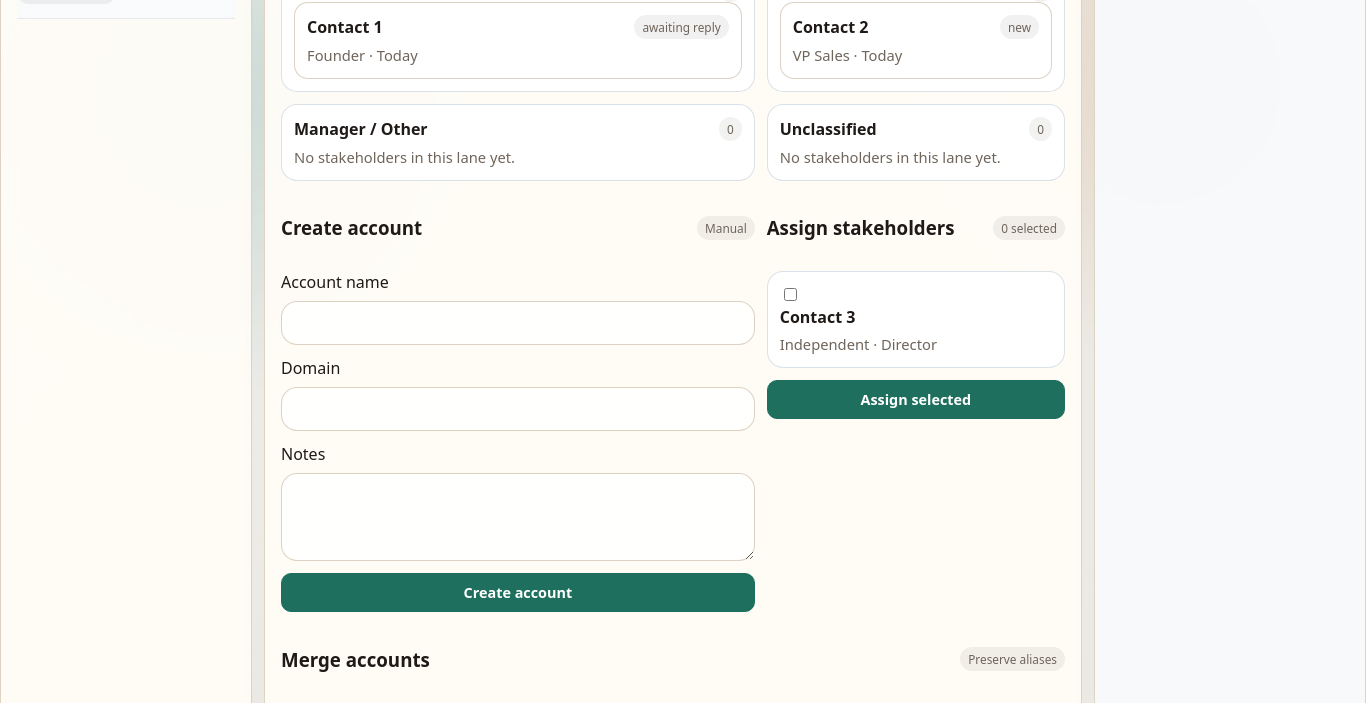
Test case: InboxWorkspace bulk draft flow › creates, assigns, and merges accounts from account mode controls
(page scrolled)
Step 1. Type "Gamma Corp" into the field labelled "Account name" → (518, 323), box [281,301,755,345]
Step 2. Type "gamma.test" into the field labelled "Domain" → (518, 409), box [281,387,755,431]
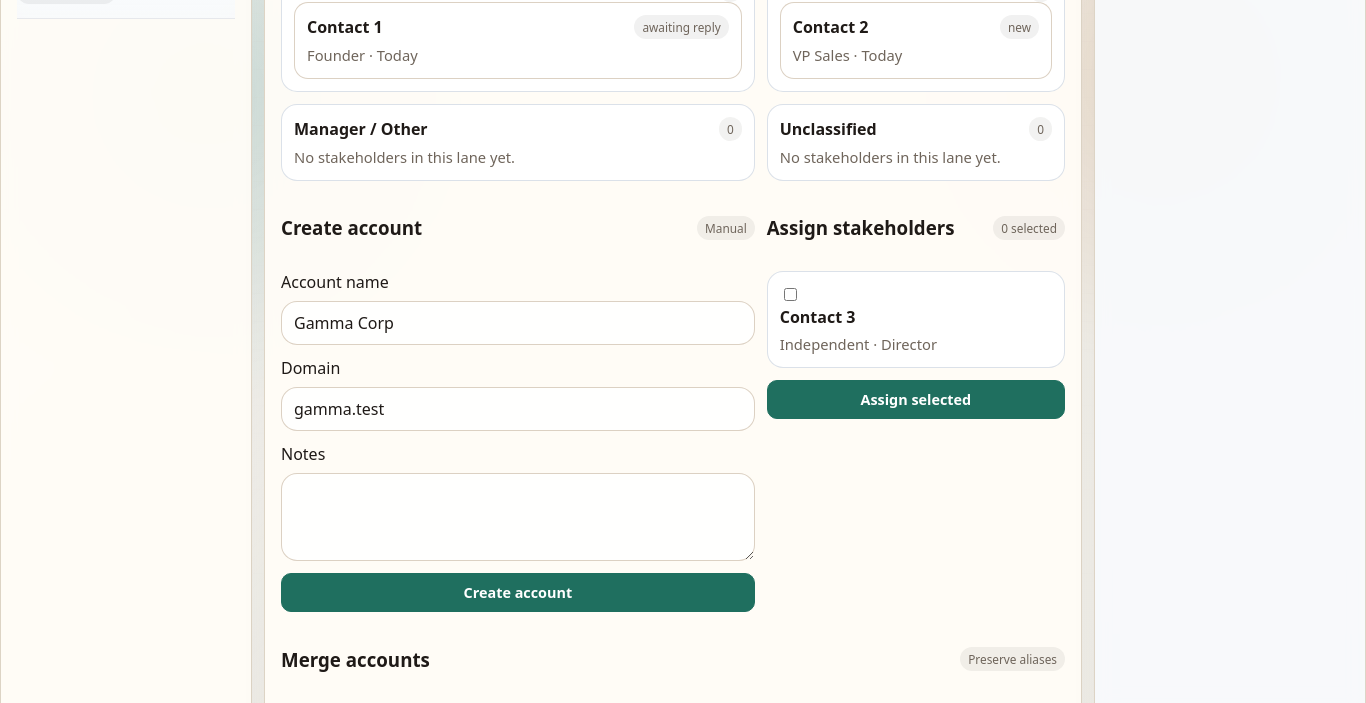
Step 3. Click the button "Create account" → (518, 592), box [281,573,755,612]
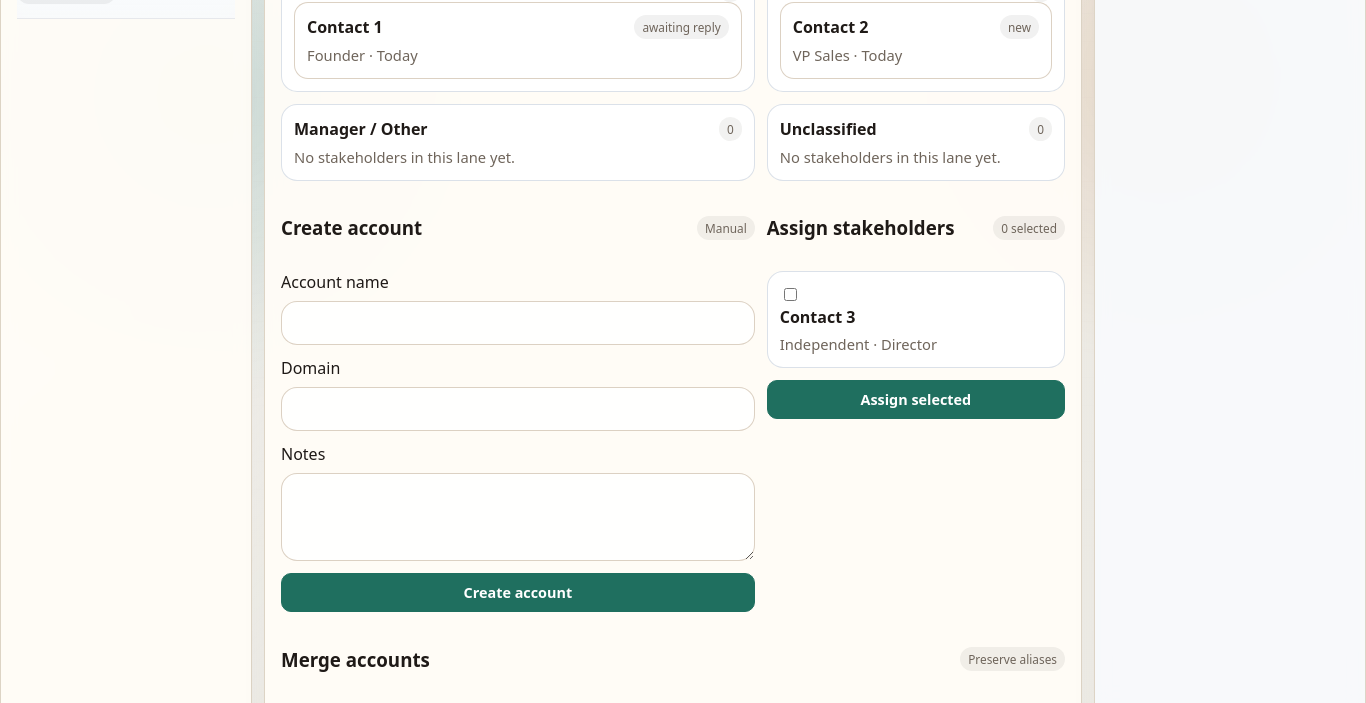
Step 4. Click the checkbox named "Assign Contact 3" → (790, 294), box [784,288,797,301]
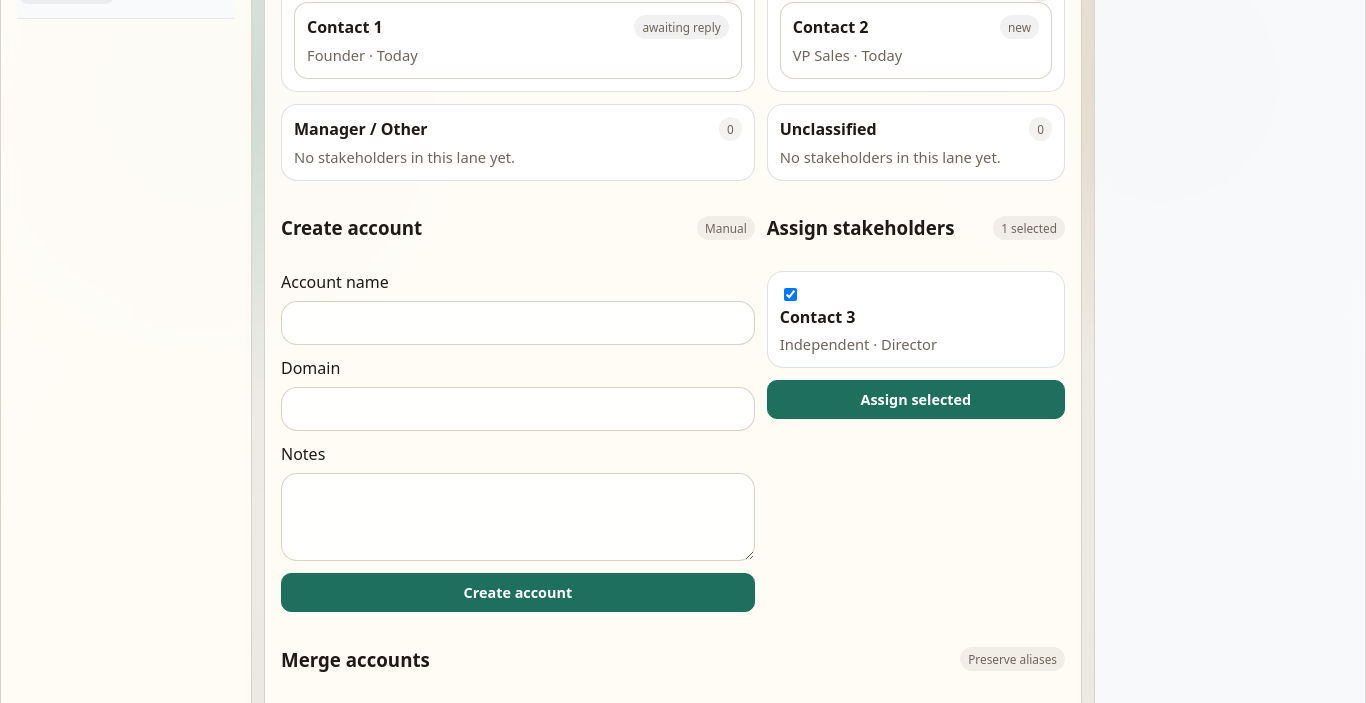
Step 5. Click the button "Assign selected" → (916, 399), box [767,380,1065,419]
(page scrolled)
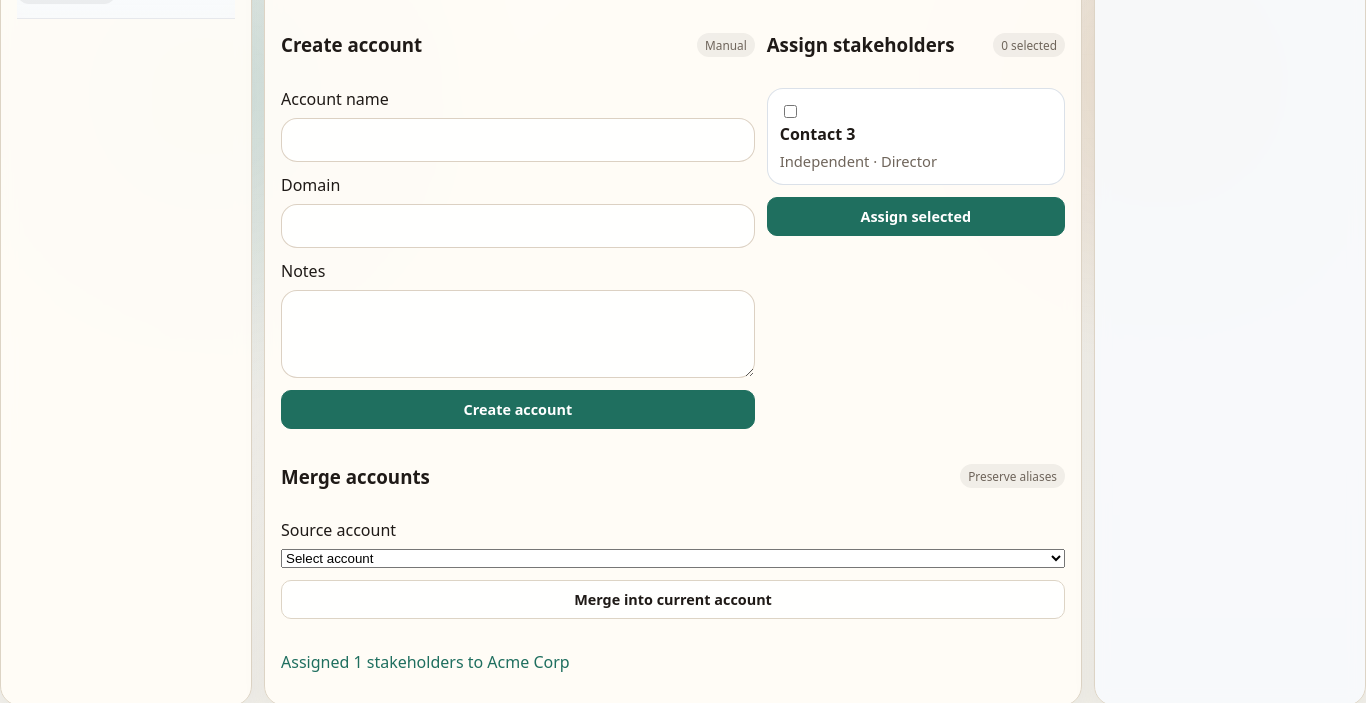
Expected: the text "Assigned 1 stakeholders to Acme Corp" is shown, [281,651,570,673]
Step 6. Select "Beta Corp" in the dropdown labelled "Source account" → (673, 559), box [281,549,1065,568]
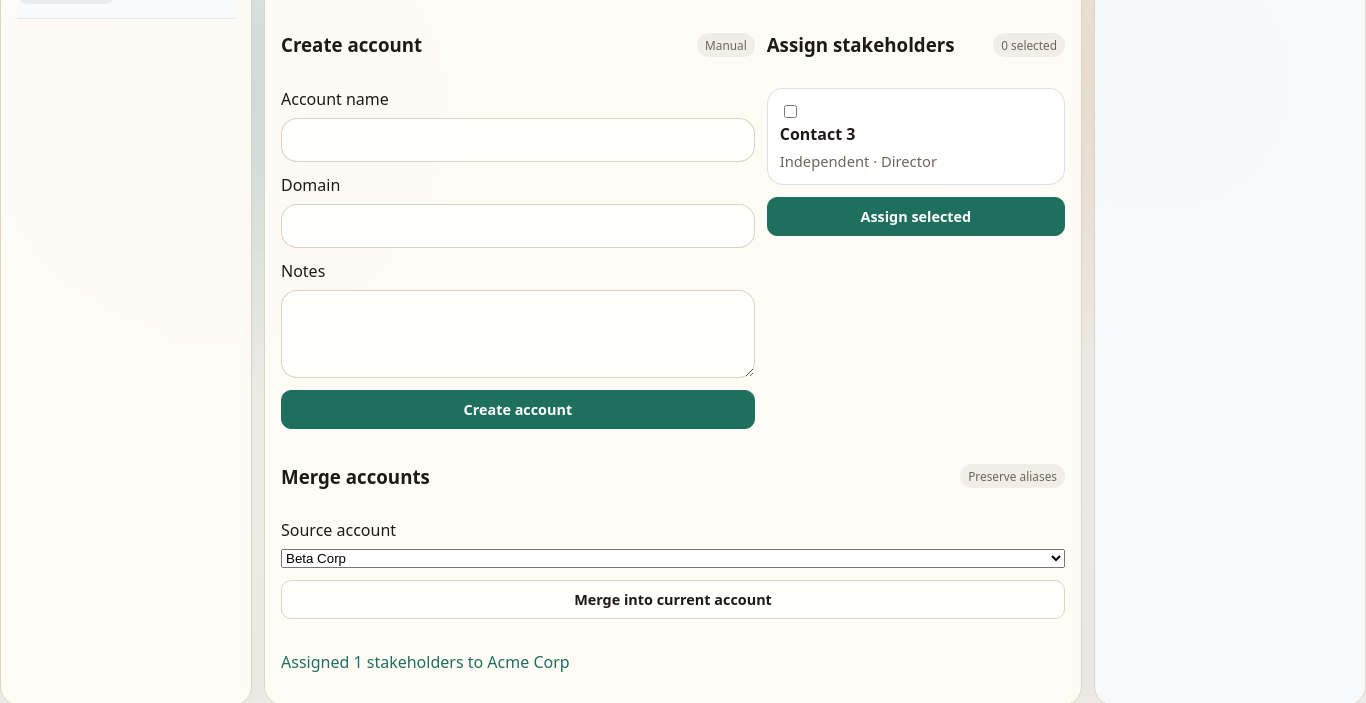
Step 7. Click the button "Merge into current account" → (673, 600), box [281,580,1065,619]
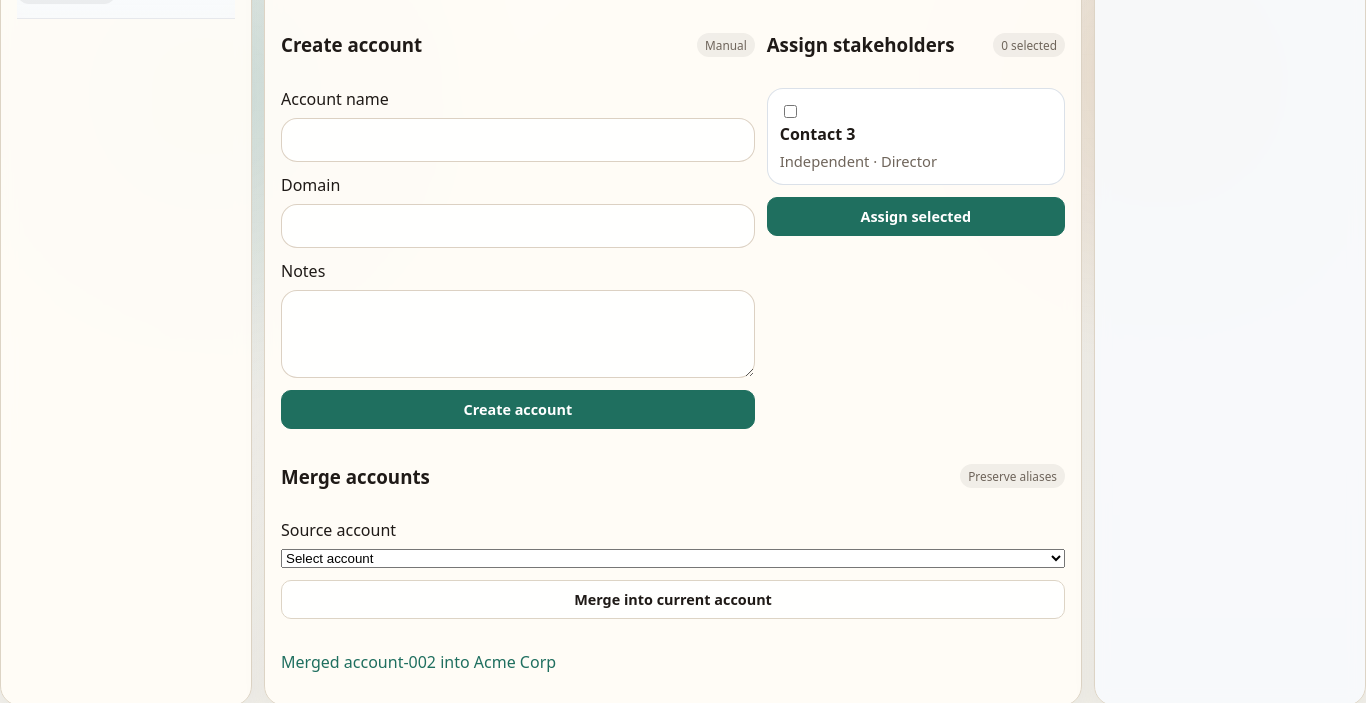
Expected: the text "Merged account-002 into Acme Corp" is shown, [281,651,556,673]
